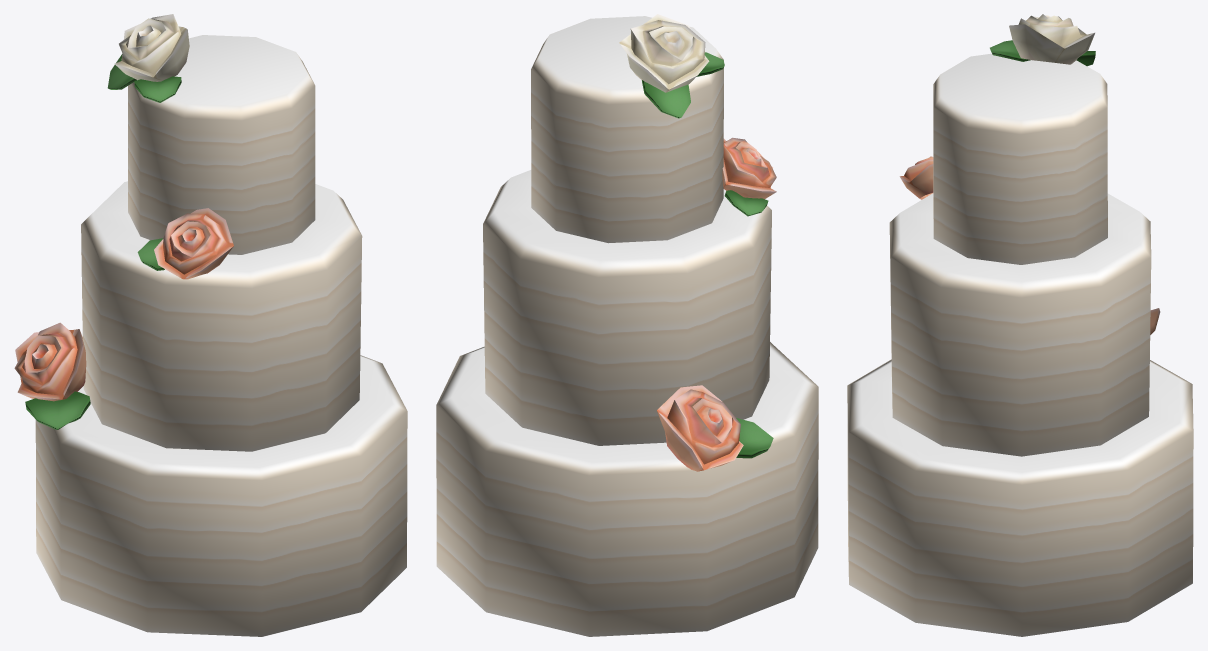
File: WeddingCake_01.fbx
The picture shows the model from 3 angles, left to right: view 1: azimuth 30°, elevation 25°; view 2: azimuth 150°, elevation 25°; view 3: azimuth 270°, elevation 25°; orthographic projection. The views are drawn at different scales.
Visible parts, largest first — view 1: WeddingCake_01; view 2: WeddingCake_01; view 3: WeddingCake_01.
Part boxes in pixels (<box>): WeddingCake_01: <box>14,14,407,636</box>; WeddingCake_01: <box>436,14,818,636</box>; WeddingCake_01: <box>847,14,1193,636</box>.
Bounding box in the file's own units: 115 × 185 × 109.
